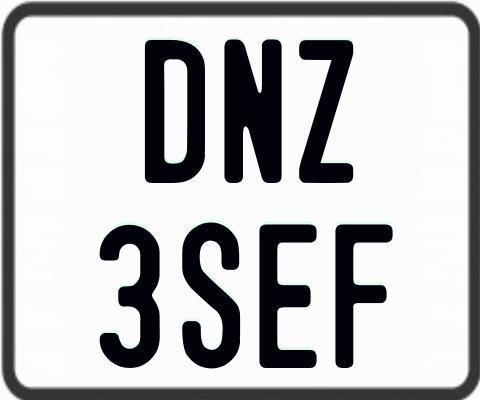3: (98, 225, 162, 371)
D: (144, 38, 207, 182)
E: (256, 221, 315, 370)
F: (334, 223, 394, 367)
N: (223, 38, 282, 188)
S: (179, 221, 240, 368)
Z: (296, 40, 354, 183)
